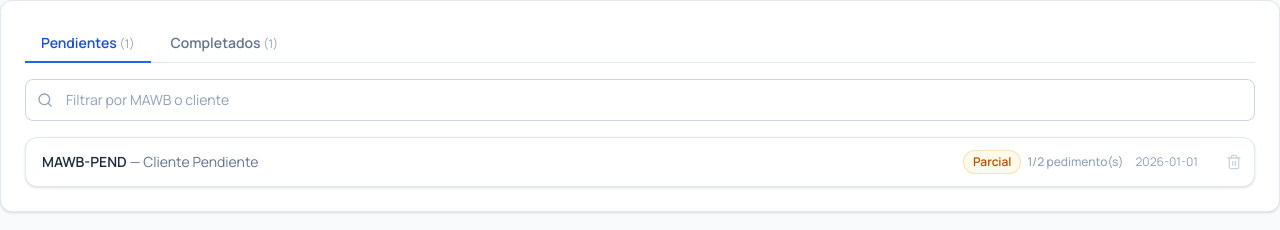
Test case: SeguimientoView › splits records into tabs by coverageStatus (completo → Completados)
The image size is (1280, 230).
Expected: the text "MAWB-PEND" is shown, x1=42 y1=152 x2=127 y2=171
Expected: the text "MAWB-DONE" is not shown
Click the button "Completados (1)": (224, 44) x1=154 y1=25 x2=294 y2=63
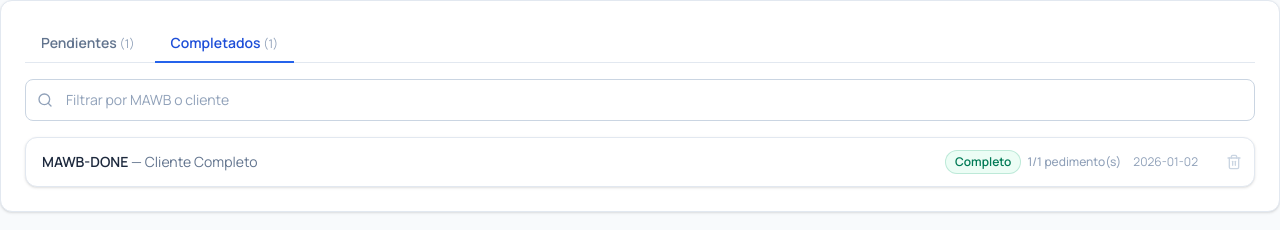
Expected: the text "MAWB-DONE" is shown, x1=42 y1=152 x2=128 y2=171
Expected: the button "MAWB-PEND" is gone
